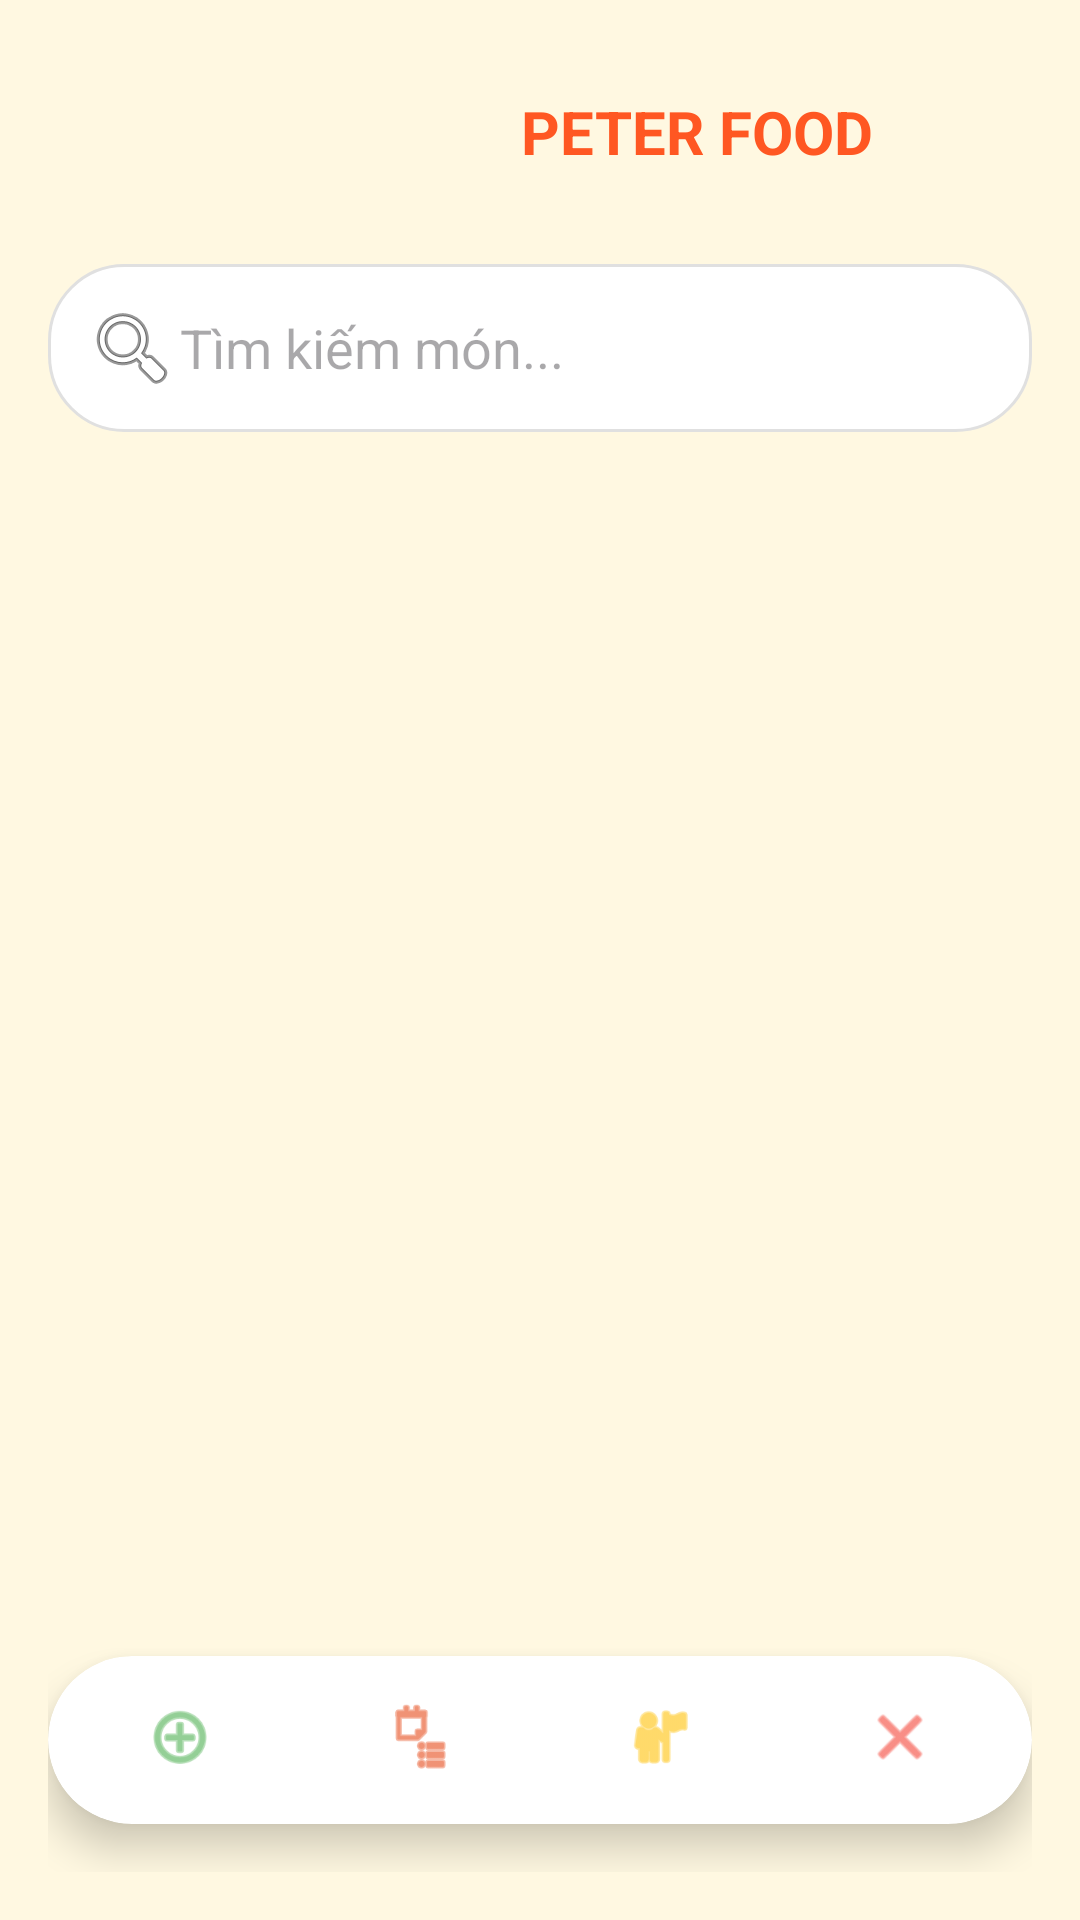

Icon bounding boxes for this 1080x1920 phone screenshot, format (x1, y1, x2, y2):
Hồ sơ: (634, 1710, 688, 1764)
Thêm món: (153, 1711, 207, 1764)
